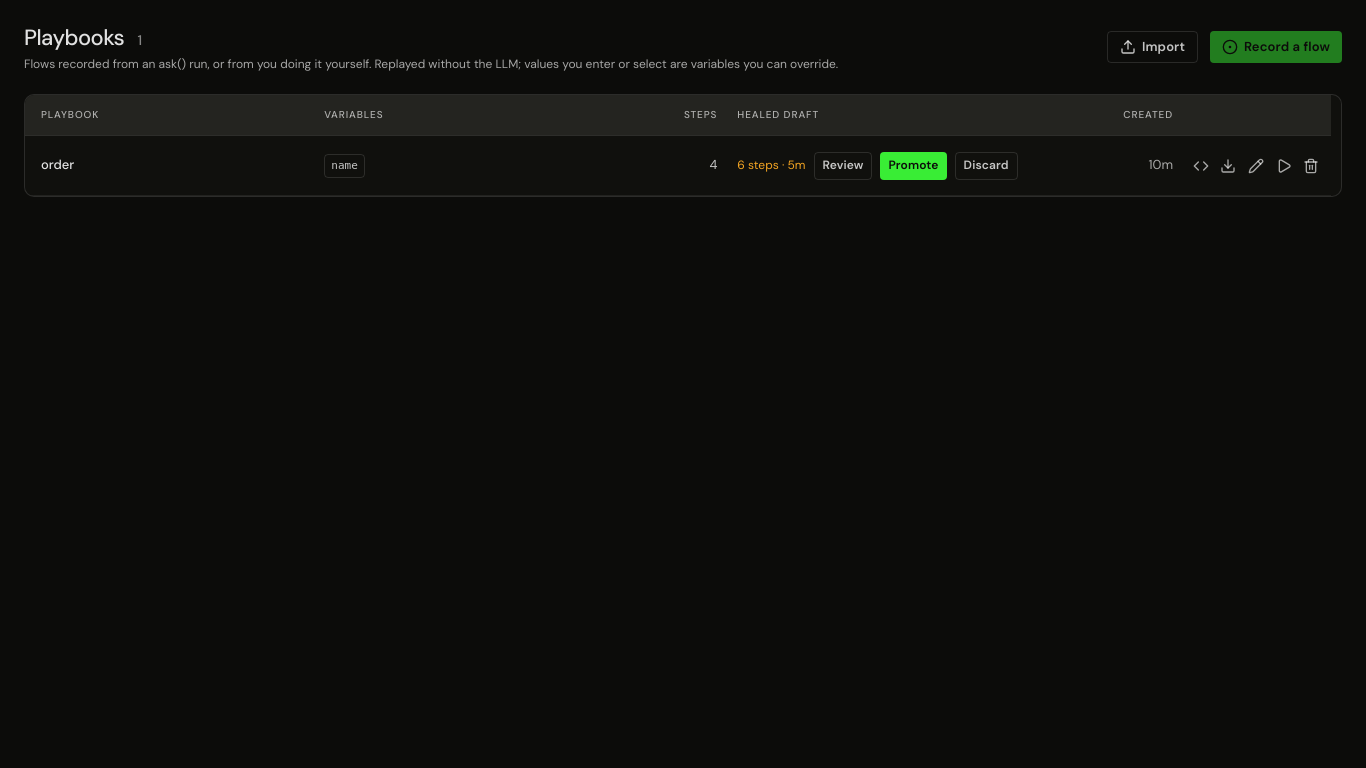
Scenario: PlaybooksTab › renames only to a valid, different name
The width and height of the screenshot is (1366, 768).
Click the button named "Rename order": [1256, 166] box left=1244, top=150, right=1268, bottom=182
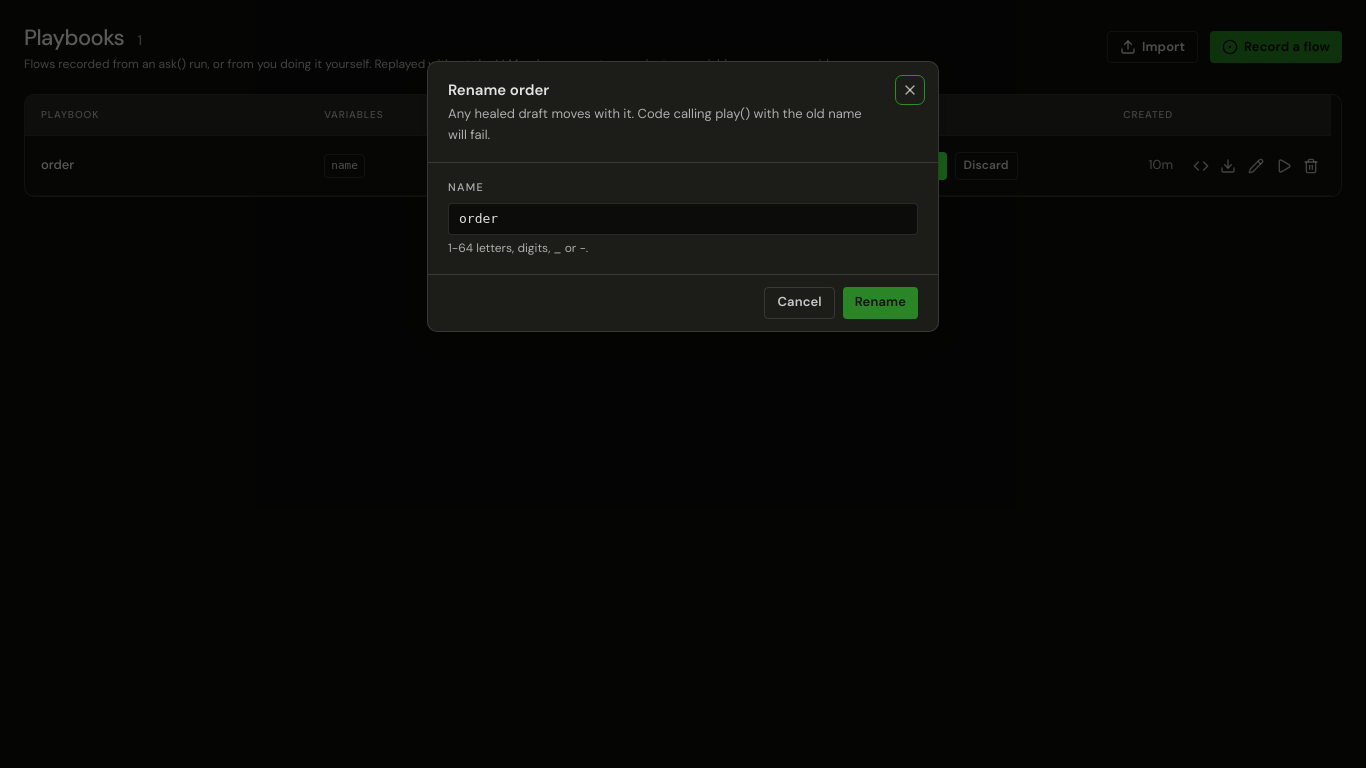
expect the button "Rename" is disabled: met, box left=843, top=287, right=918, bottom=319
Replace the text in the field labelled "Name" with "bad name": [683, 219] box left=448, top=203, right=918, bottom=235
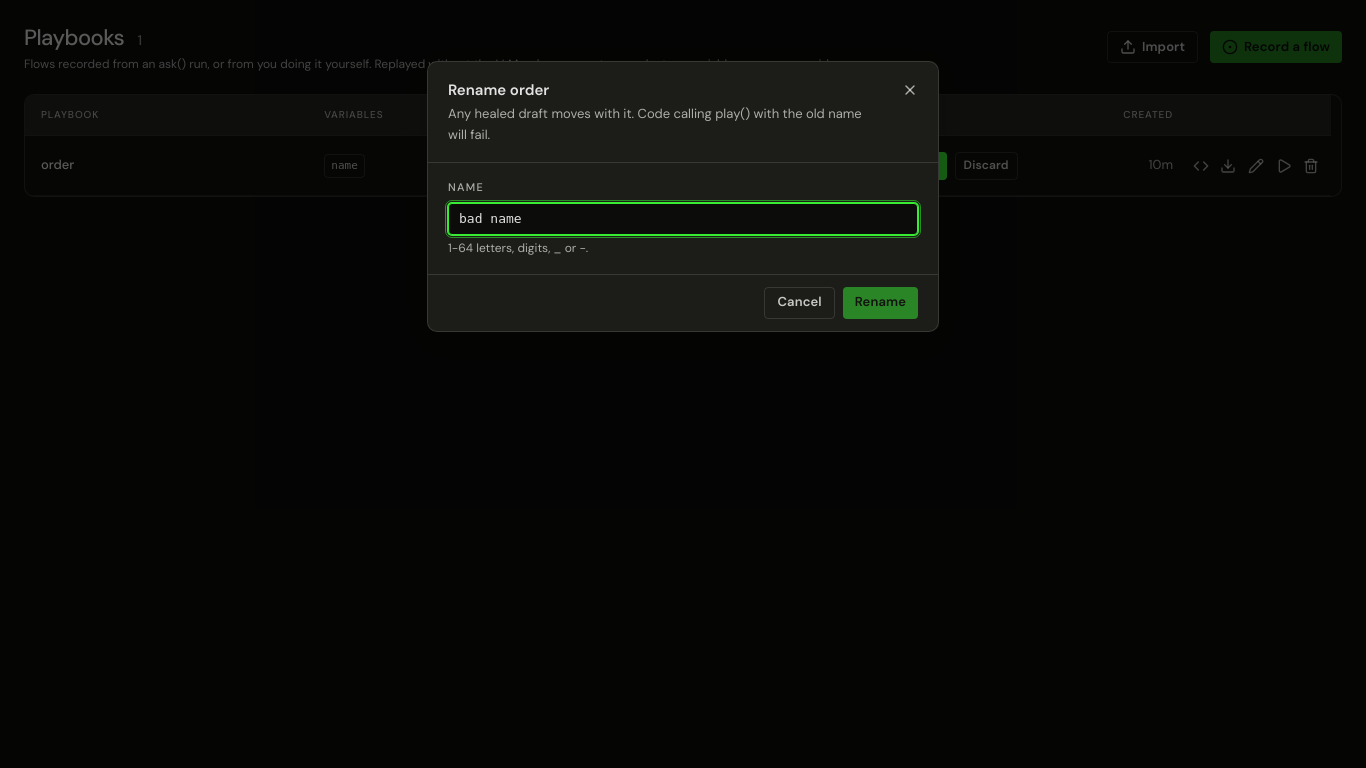
expect the button "Rename" is disabled: met, box left=843, top=287, right=918, bottom=319
Replace the text in the field labelled "Name" with "checkout": [683, 219] box left=448, top=203, right=918, bottom=235
Then press Enter
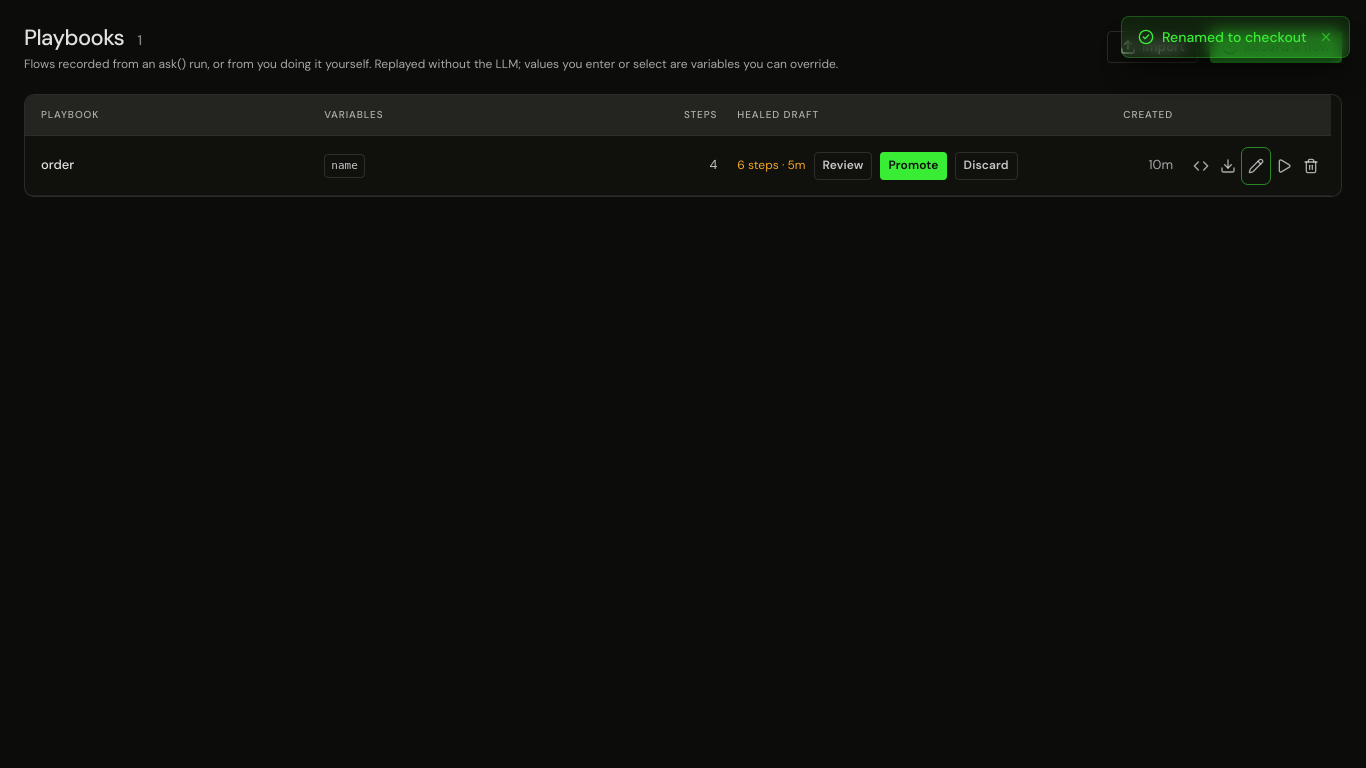
expect the text "Renamed to checkout" is shown: met, box left=1162, top=27, right=1307, bottom=47
